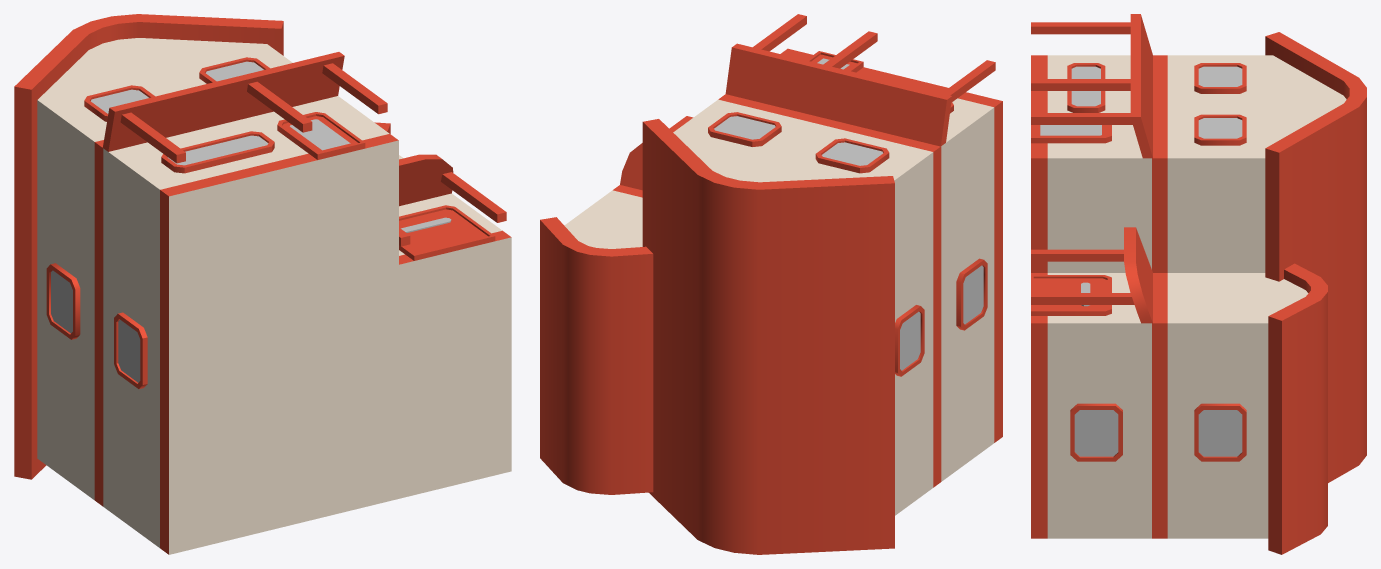
Rendered from House04.fbx.
The picture shows the model from 3 angles, left to right: view 1: azimuth 30°, elevation 25°; view 2: azimuth 150°, elevation 25°; view 3: azimuth 270°, elevation 25°; orthographic projection. The views are drawn at different scales.
Visible parts, largest first — view 1: dh002; view 2: dh002; view 3: dh002.
Boxes of the visible parts, x1,y1,x2,y2 form: dh002: (14,14,511,554); dh002: (540,14,1002,554); dh002: (1031,14,1366,554).
Size of the model in its own units: 988 by 1048 by 828.
